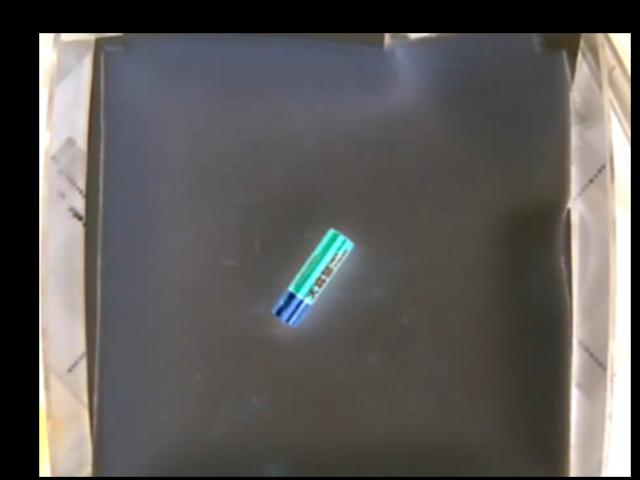Battery: (271, 225, 354, 325)
